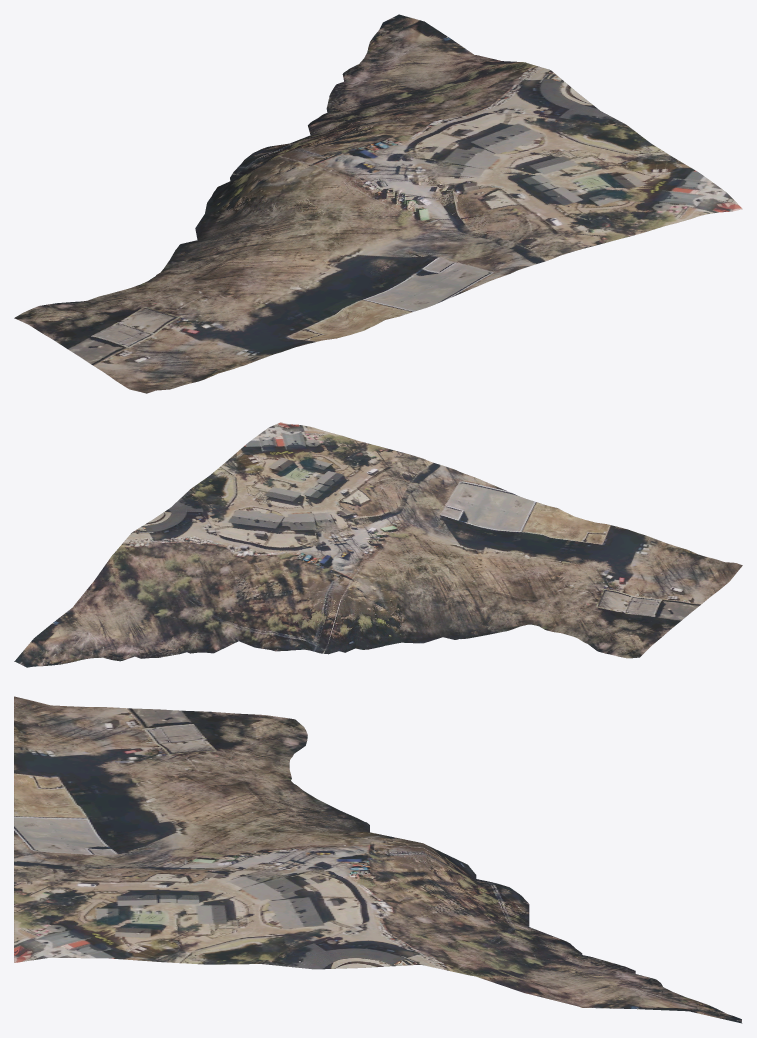
File: CM_Terrain_24485954_6821636.fbx
3 renders of one model, top to bottom at view 1: azimuth 30°, elevation 25°; view 2: azimuth 150°, elevation 25°; view 3: azimuth 270°, elevation 25°, orthographic. The views are drawn at different scales.
Visible parts, largest first — view 1: CM_Terrain_24485954_6821636_LOD0; view 2: CM_Terrain_24485954_6821636_LOD0; view 3: CM_Terrain_24485954_6821636_LOD0.
Boxes of the visible parts, x1,y1,x2,y2 form: CM_Terrain_24485954_6821636_LOD0: (14,14,742,393); CM_Terrain_24485954_6821636_LOD0: (14,422,742,667); CM_Terrain_24485954_6821636_LOD0: (14,696,742,1023).
Size of what is drawn, in the model's own units: 205 by 22.93 by 205.
